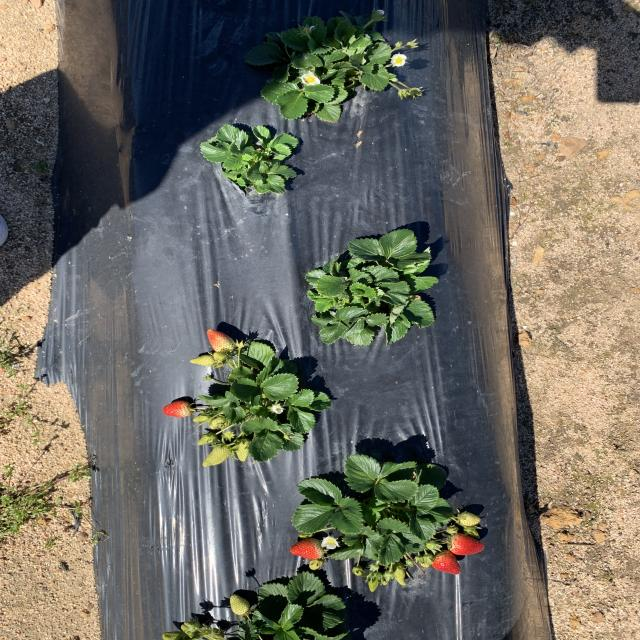unripe: (448, 533, 484, 555), (431, 550, 461, 576), (288, 539, 324, 559), (162, 401, 192, 418)
